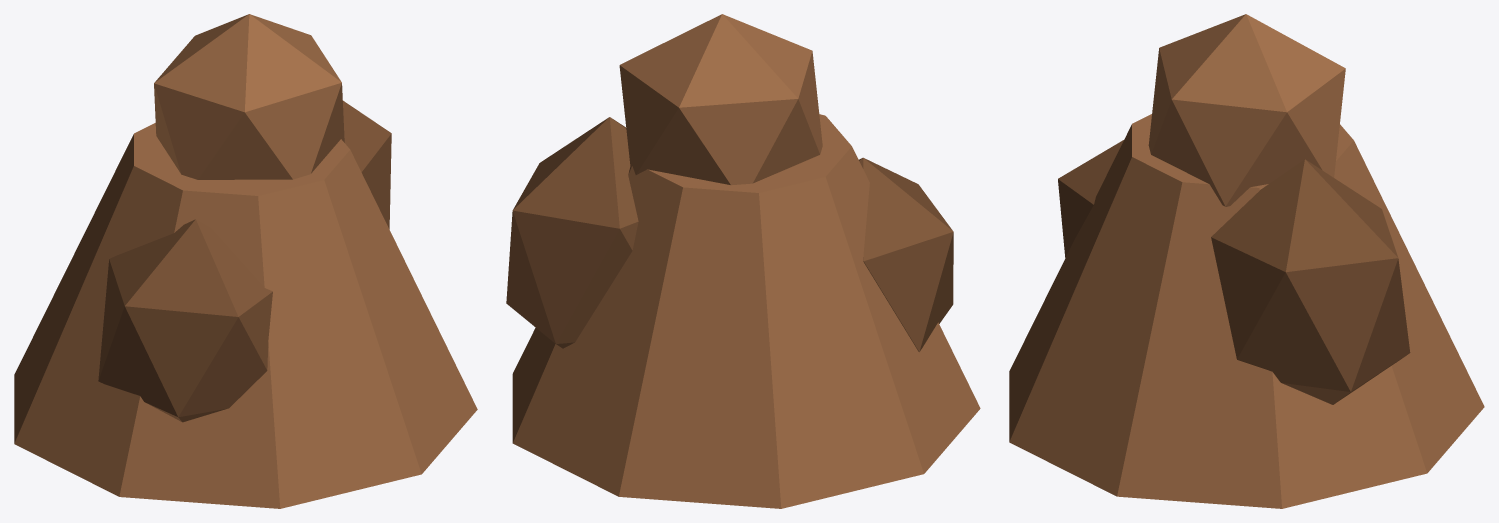
Rendered from cupinzeiro.glb.
3 views of the same model, side by side, from view 1: azimuth 30°, elevation 25°; view 2: azimuth 150°, elevation 25°; view 3: azimuth 270°, elevation 25° (orthographic). The views are drawn at different scales.
Parts seen in each view (by area): view 1: cupinzeiro; view 2: cupinzeiro; view 3: cupinzeiro.
Part boxes in pixels (x1,y1,x2,y2): cupinzeiro: (14, 14, 477, 508); cupinzeiro: (506, 14, 980, 508); cupinzeiro: (1009, 14, 1484, 508).
Size of the model in its own units: 1.48 by 1.35 by 1.45.
